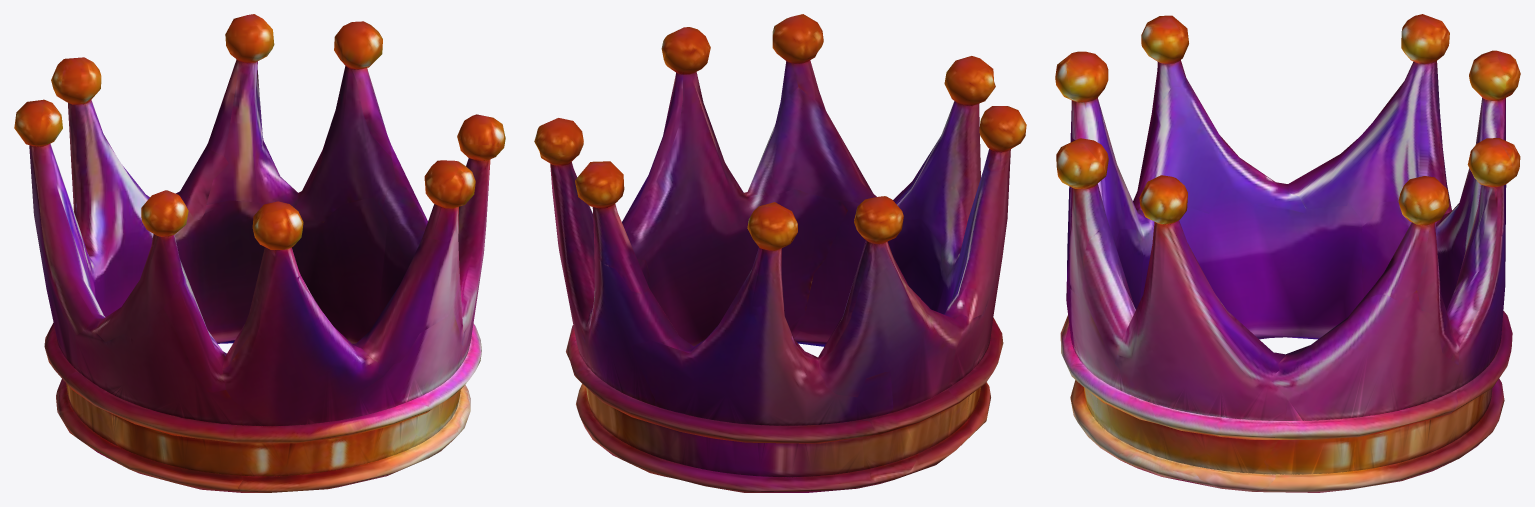
The model's file is crown__main__r5__p4.glb.
3 renders of one model, left to right at view 1: azimuth 30°, elevation 25°; view 2: azimuth 150°, elevation 25°; view 3: azimuth 270°, elevation 25°, orthographic. The views are drawn at different scales.
Visible parts, largest first — view 1: model; view 2: model; view 3: model.
Boxes of the visible parts, x1,y1,x2,y2 form: model: (14,14,505,492); model: (534,14,1026,492); model: (1055,14,1520,492).
Bounding box in the file's own units: 1.8 × 1.41 × 1.89.
Materials: 1 (1 with a texture image).
